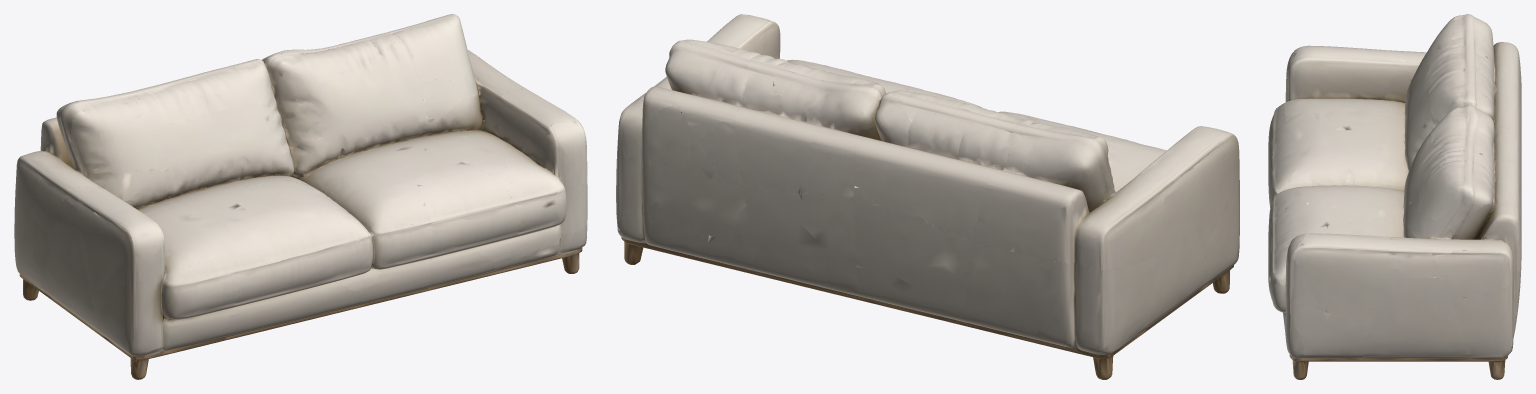
Rendered from sofa-game-v001.glb.
3 views of the same model, side by side, from view 1: azimuth 30°, elevation 25°; view 2: azimuth 150°, elevation 25°; view 3: azimuth 270°, elevation 25° (orthographic). The views are drawn at different scales.
Parts seen in each view (by area): view 1: tripo_node_5e1ab049-5da9-434c-8720-fa0bf4c76ebe; view 2: tripo_node_5e1ab049-5da9-434c-8720-fa0bf4c76ebe; view 3: tripo_node_5e1ab049-5da9-434c-8720-fa0bf4c76ebe.
Boxes of the visible parts, x1,y1,x2,y2 form: tripo_node_5e1ab049-5da9-434c-8720-fa0bf4c76ebe: [14, 14, 587, 379]; tripo_node_5e1ab049-5da9-434c-8720-fa0bf4c76ebe: [616, 14, 1239, 379]; tripo_node_5e1ab049-5da9-434c-8720-fa0bf4c76ebe: [1268, 14, 1521, 379].
Size of the model in its own units: 2.42 by 1 by 1.25.
1 material, 1 textured.
